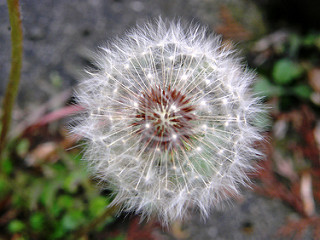dandelion white: (69, 12, 273, 231)
